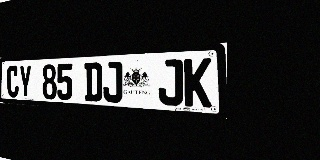5: (57, 63, 73, 100)
8: (42, 64, 57, 100)
C: (7, 65, 19, 98)
D: (84, 62, 102, 102)
J: (158, 59, 183, 106), (103, 61, 122, 103)
K: (184, 58, 212, 108)
Y: (19, 65, 32, 98)
